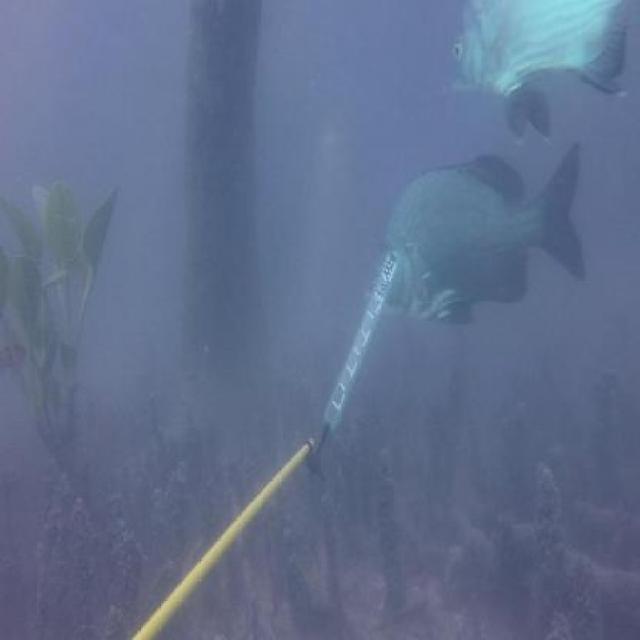acanthopagrus_palmaris: (365, 143, 590, 331), (447, 1, 636, 139)
